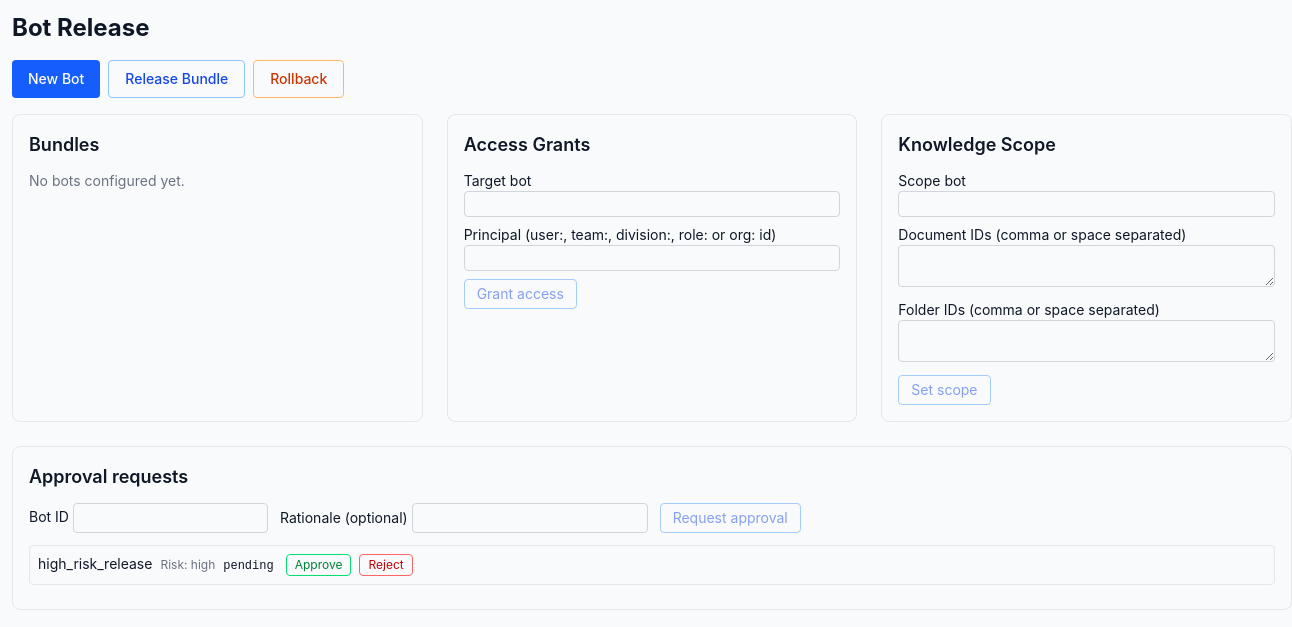
Scenario: BotReleaseScreen › approves a pending request and refreshes the list
Expected: the text "high_risk_release" is shown, x1=38 y1=555 x2=152 y2=572
What coordinates should you click on to do the following:
click the button "Approve"
I would click on:
 (319, 565)
Its box is x1=286 y1=554 x2=352 y2=576.
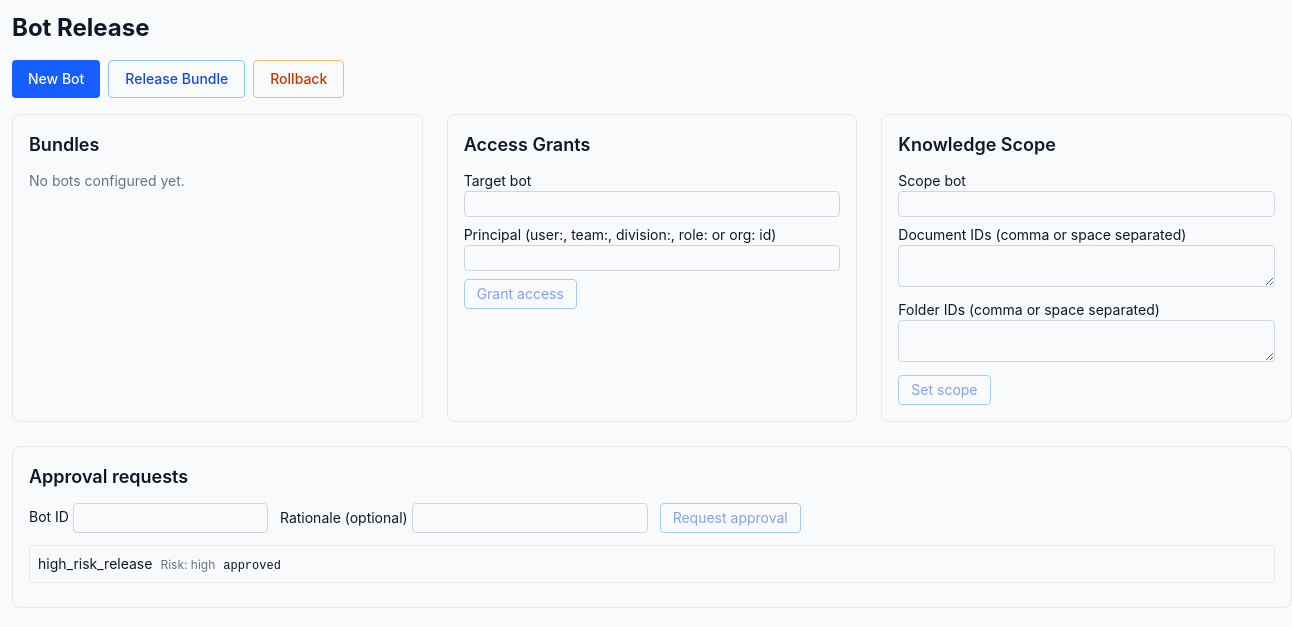
Expected: the text "approved" is shown, x1=223 y1=559 x2=281 y2=573
